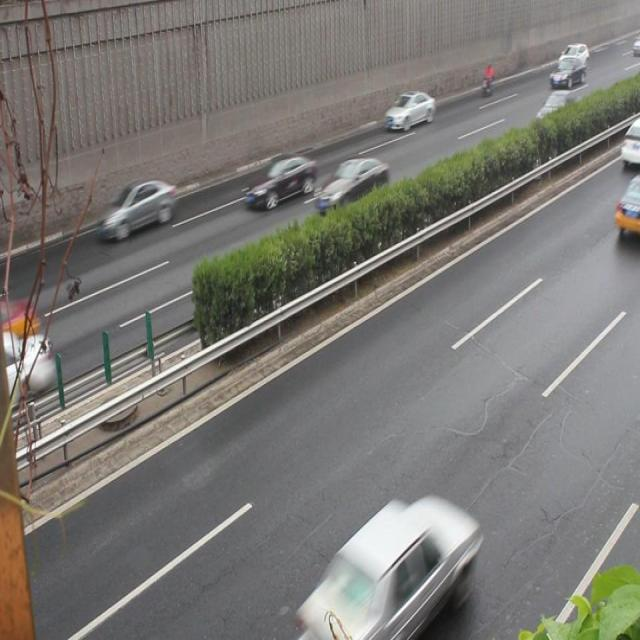car: (311, 494, 476, 640), (96, 178, 176, 242), (242, 154, 316, 210), (314, 157, 388, 212), (533, 90, 585, 140), (383, 90, 434, 134), (547, 56, 585, 91)
